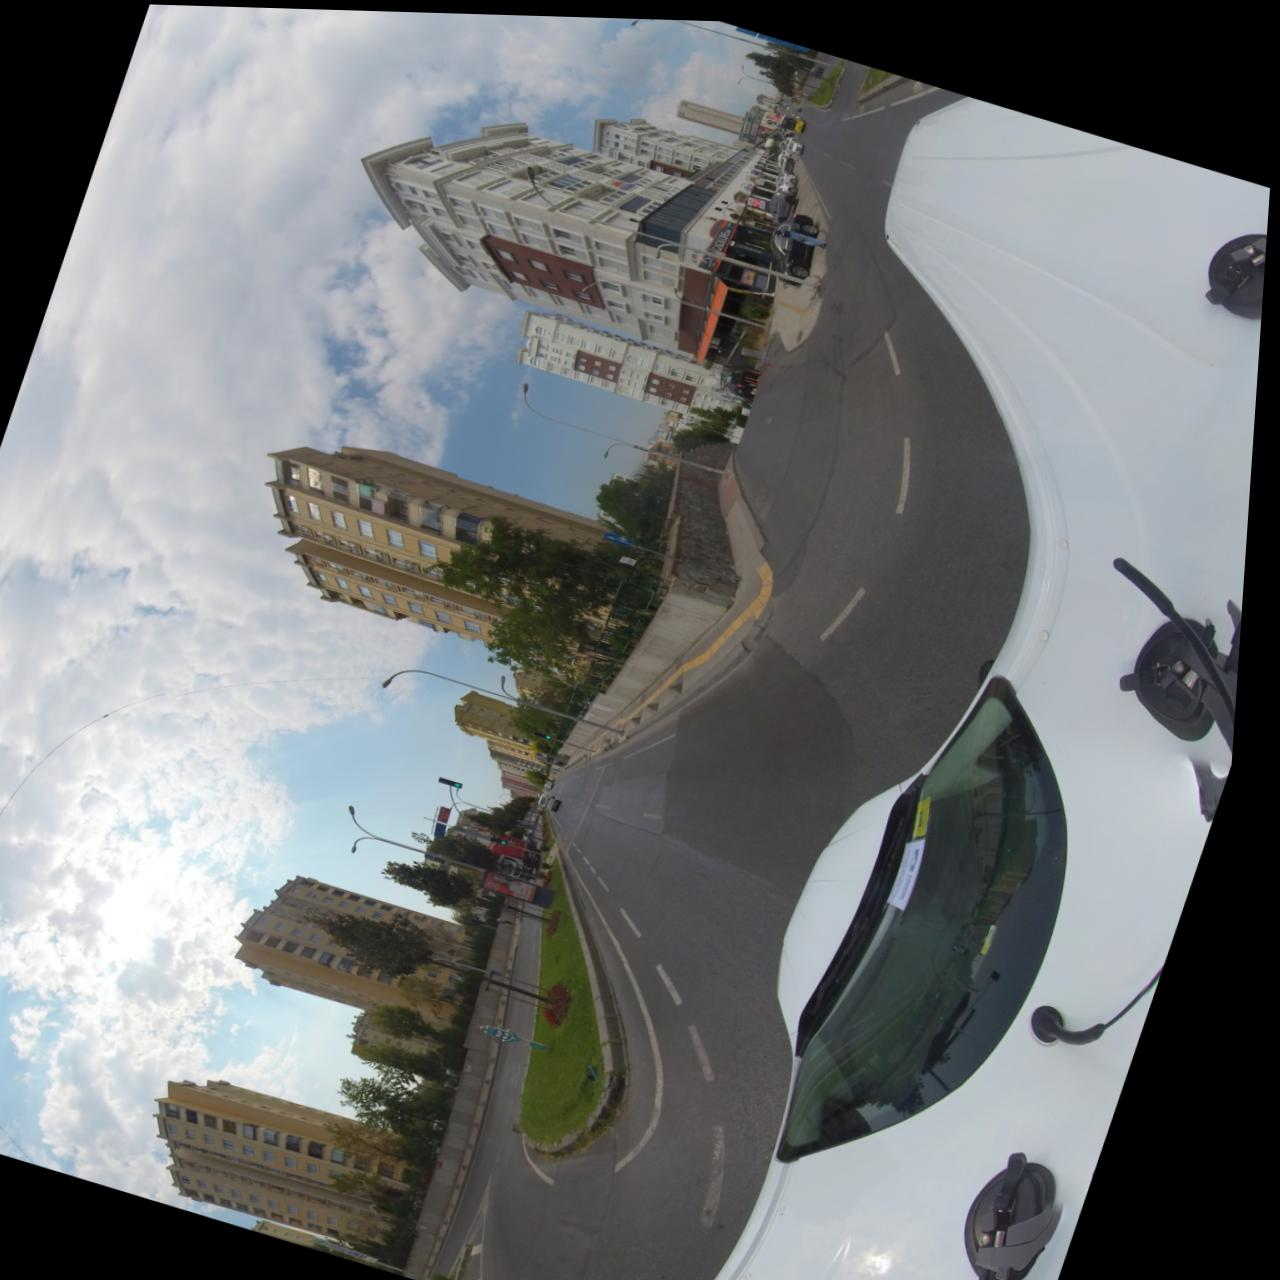SignStore: (709, 215, 740, 250), (734, 198, 748, 209), (736, 188, 750, 197)
